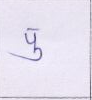u_matra: (7, 44, 45, 62)
